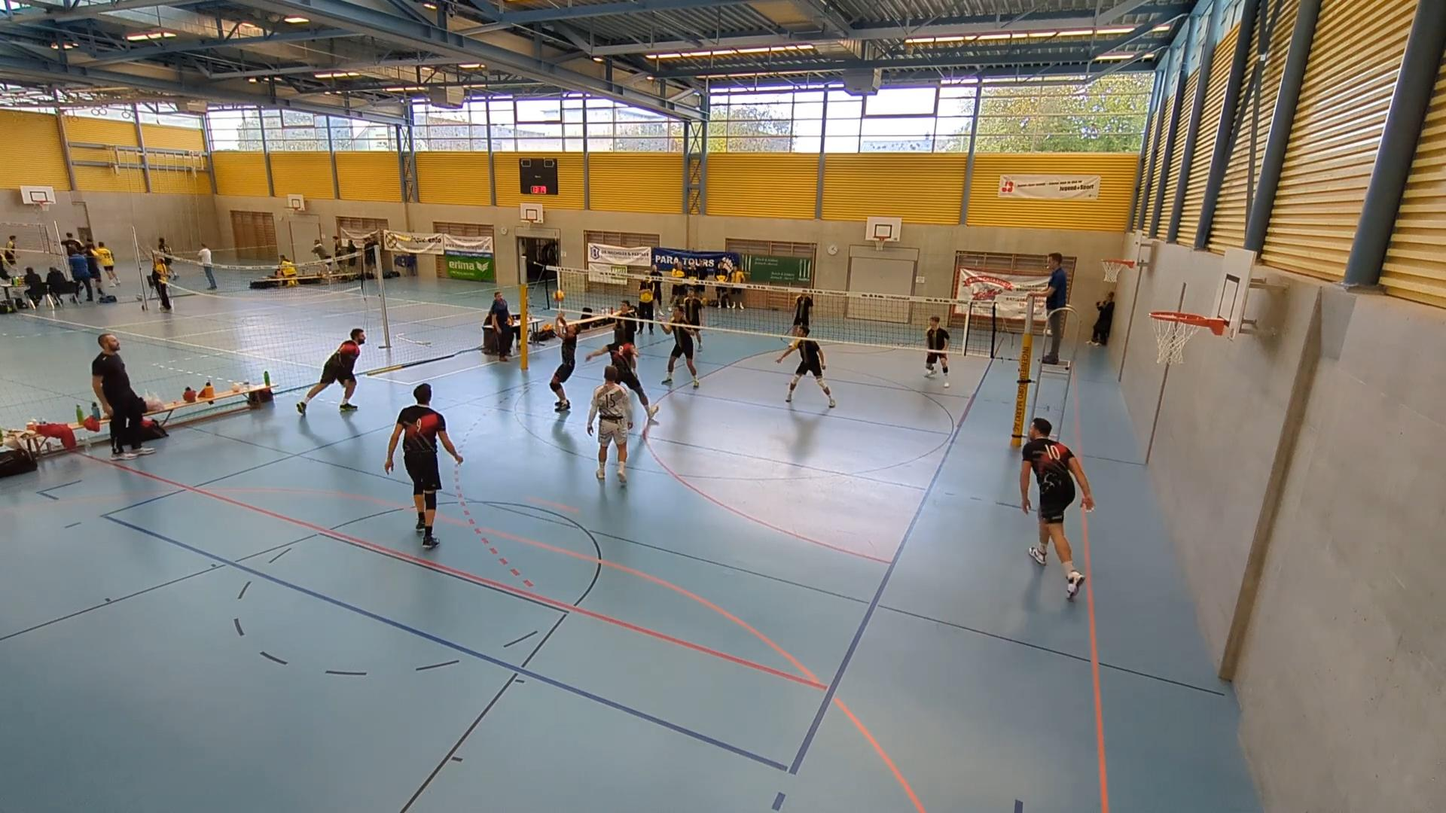alzata: (545, 311, 582, 419)
